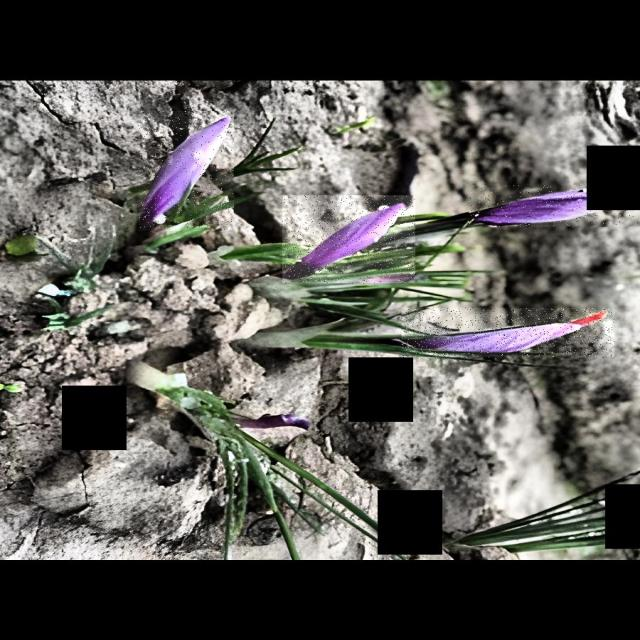Flower: (281, 195, 414, 282), (138, 110, 234, 230), (401, 307, 614, 356), (468, 184, 640, 226)
stigma: (568, 310, 614, 330)
